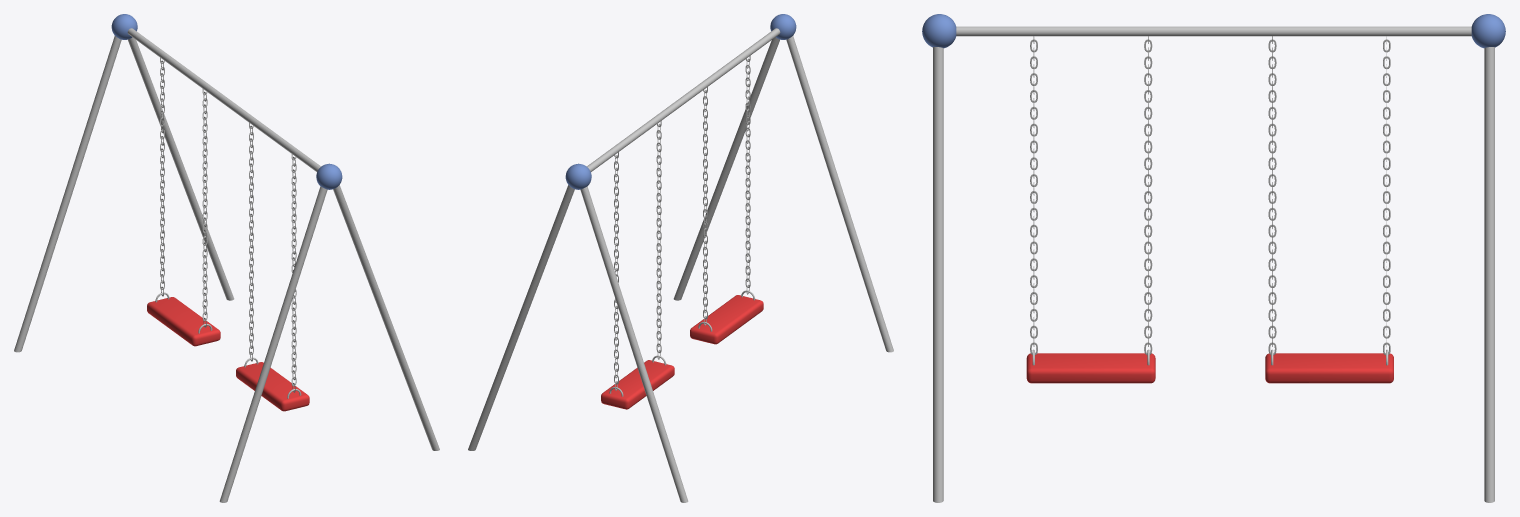
File: buranko.fbx
The picture shows the model from 3 angles, left to right: view 1: azimuth 30°, elevation 25°; view 2: azimuth 150°, elevation 25°; view 3: azimuth 270°, elevation 25°; orthographic projection. The views are drawn at different scales.
Parts seen in each view (by area): view 1: pipe, chain_02, sheet_02, chain_01, sheet_01, tunagi; view 2: pipe, chain_01, sheet_01, chain_02, sheet_02, tunagi; view 3: pipe, sheet_01, sheet_02, chain_01, chain_02, tunagi.
Part boxes in pixels (left/top/right/bottom): pipe: left=14, top=28, right=439, bottom=502; chain_02: left=155, top=57, right=212, bottom=333; sheet_02: left=147, top=297, right=220, bottom=346; chain_01: left=244, top=123, right=301, bottom=398; sheet_01: left=236, top=362, right=309, bottom=411; tunagi: left=111, top=14, right=342, bottom=189; pipe: left=468, top=28, right=893, bottom=502; chain_01: left=698, top=56, right=755, bottom=331; sheet_01: left=690, top=295, right=763, bottom=344; chain_02: left=609, top=121, right=666, bottom=396; sheet_02: left=601, top=360, right=674, bottom=409; tunagi: left=565, top=14, right=796, bottom=189; pipe: left=933, top=26, right=1494, bottom=502; sheet_01: left=1026, top=353, right=1155, bottom=383; sheet_02: left=1265, top=353, right=1393, bottom=383; chain_01: left=1030, top=36, right=1152, bottom=365; chain_02: left=1268, top=36, right=1390, bottom=365; tunagi: left=922, top=14, right=1505, bottom=48.
Size of the model in its own units: 386 by 522 by 664.
